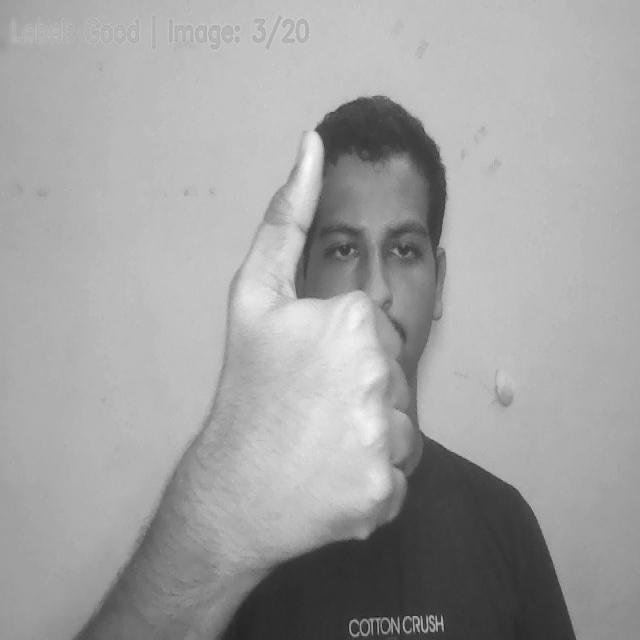Good: (215, 129, 410, 558)
